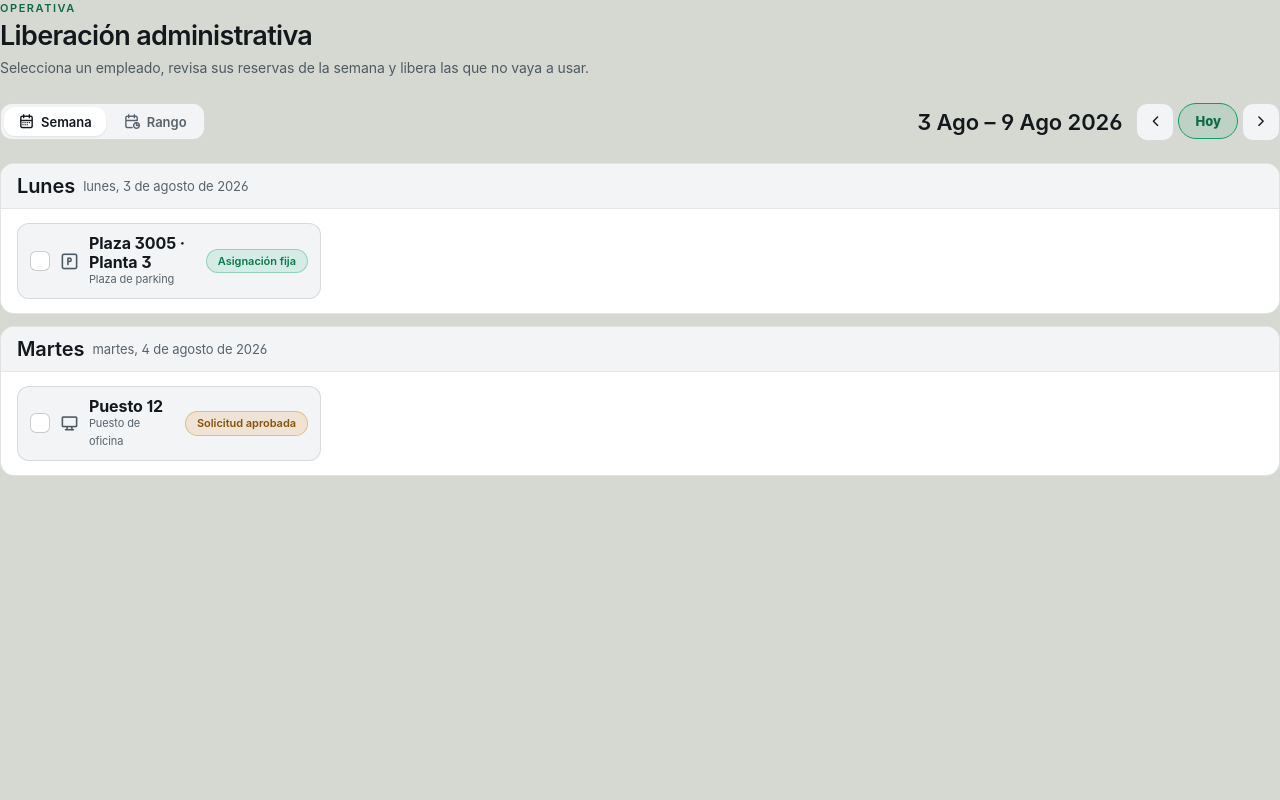
Test: AdministrativeReleasesPage (ADMIN/AGENCIA) — liberación por empleado y semana › should_release_batch_routing_each_reservation_to_its_endpoint
Expected: the text "Puesto 12" is shown, [89,397,175,416]
Click the checkbox labelled "Plaza 3005 · Planta 3 Plaza de parking Asignación fija" at (137, 243), box [17,223,321,299]
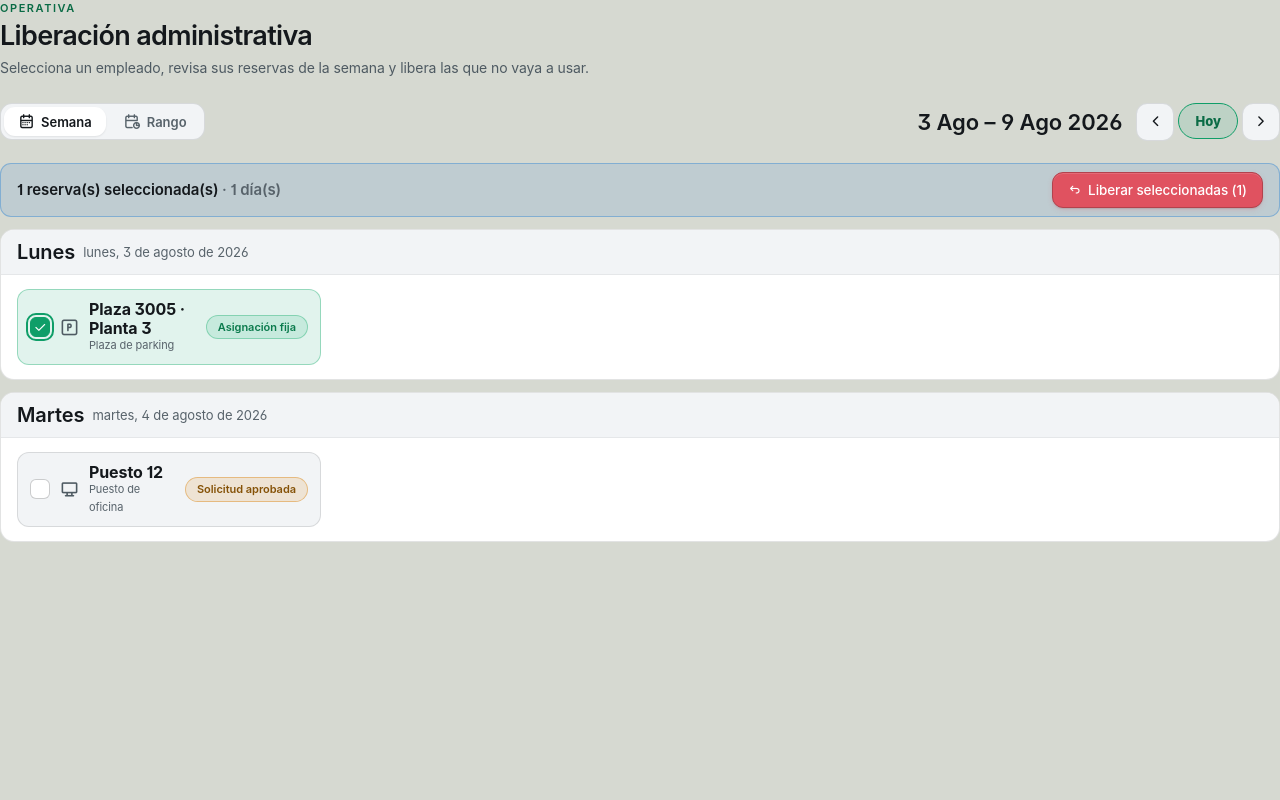
Click the checkbox labelled "Puesto 12 Puesto de oficina Solicitud aprobada" at (126, 472), box [17,452,321,527]
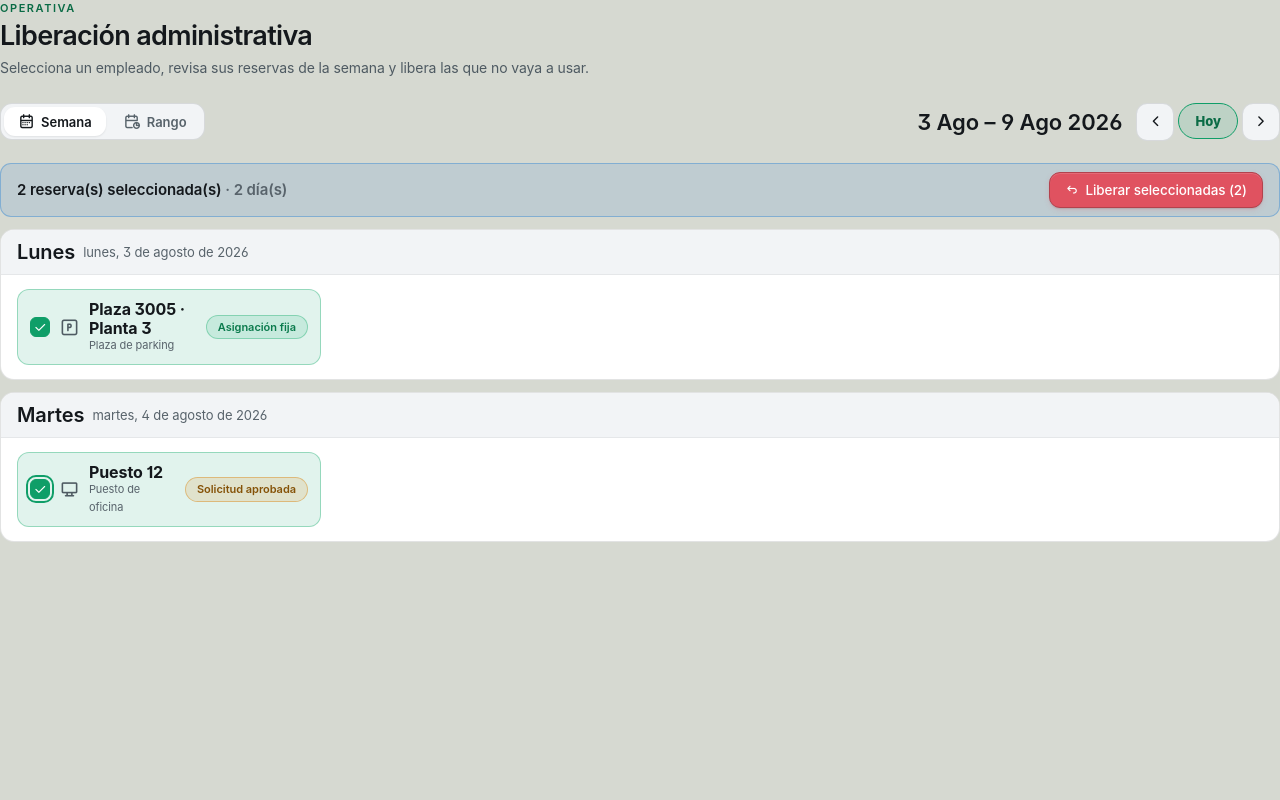
Click the button "Liberar seleccionadas (2)" at (1156, 190), box [1049,172,1263,208]
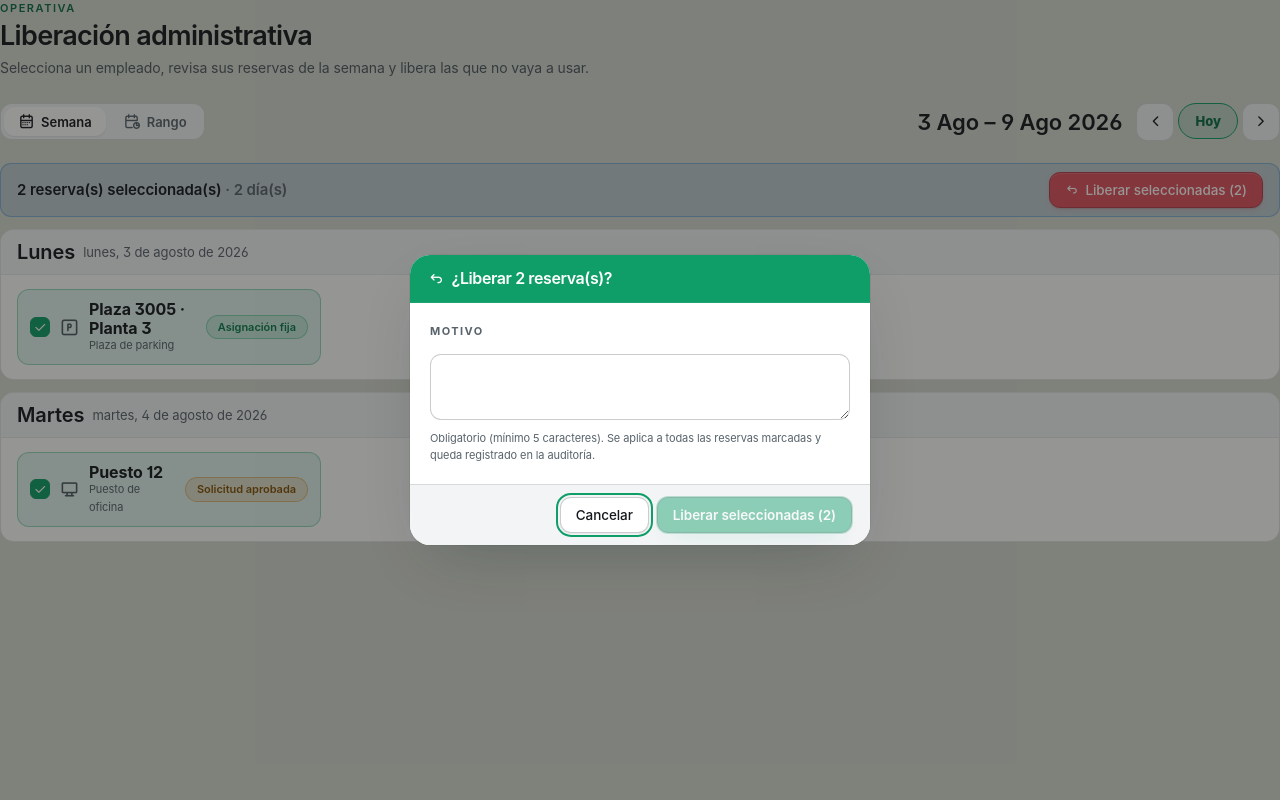
Type "No acude esta semana" into the text box labelled "Motivo" at (640, 387), box [430,354,850,420]
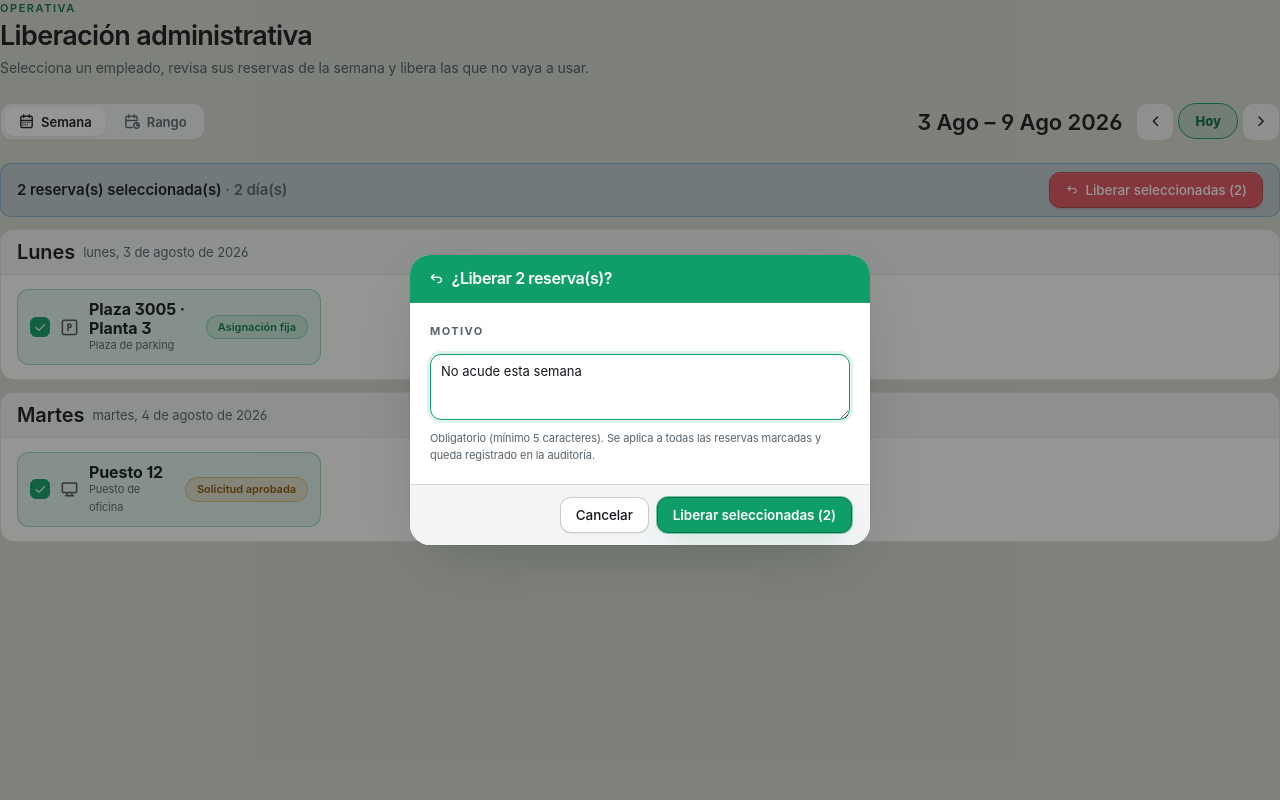
Click the button "Liberar seleccionadas (2)" at (754, 515), box [657,497,852,533]
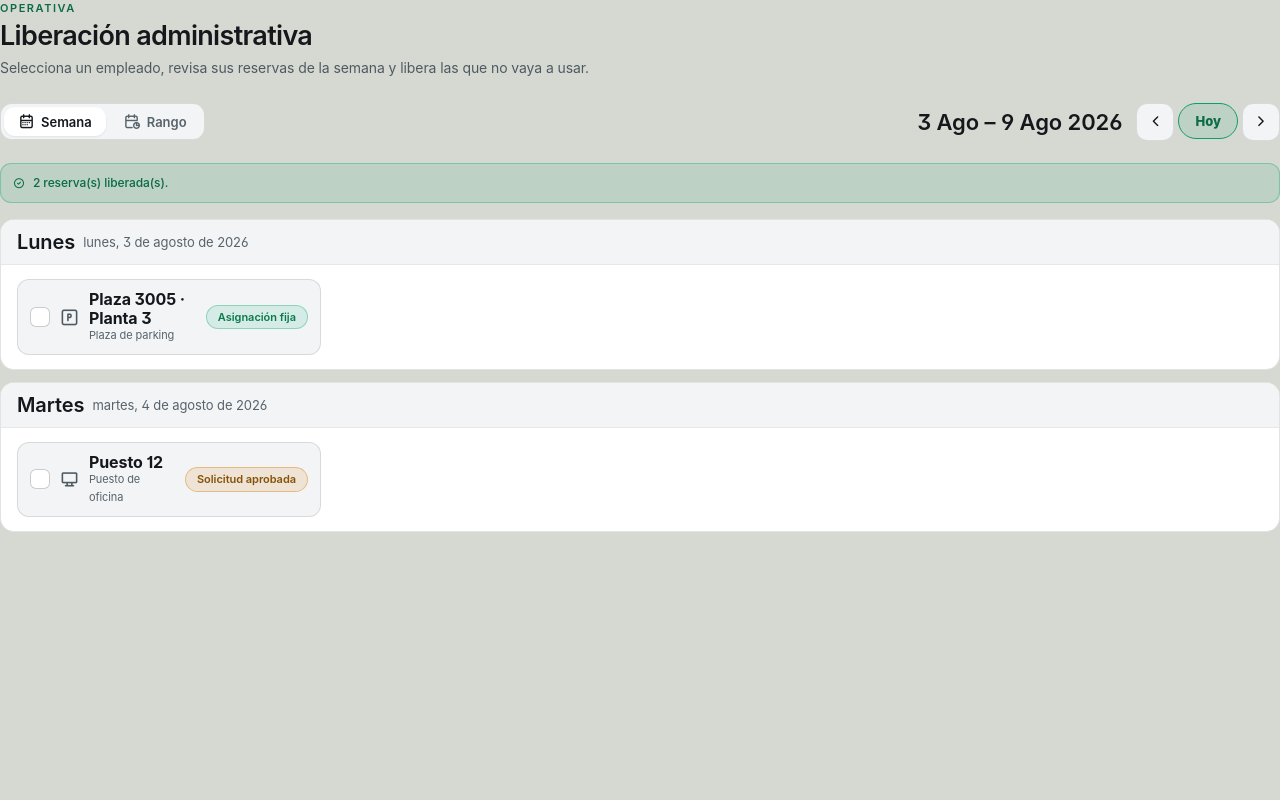
Now the text "2 reserva(s) liberada(s)." is shown, box [33,174,168,192]
